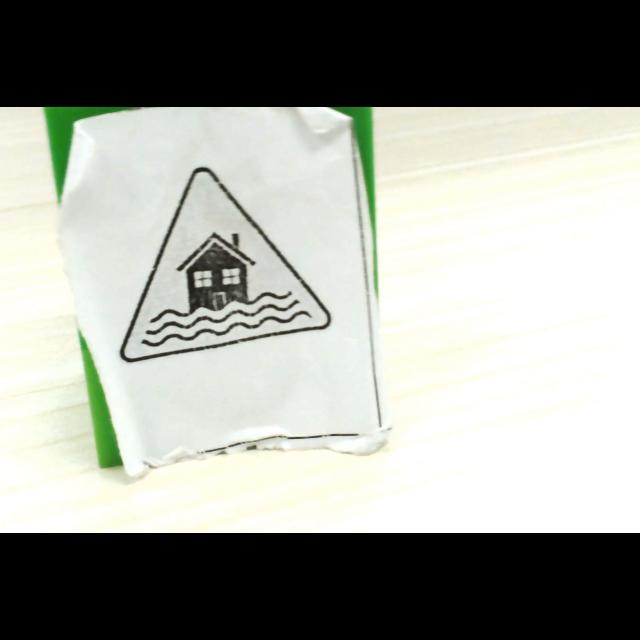Tsunami: (121, 167, 331, 363)
